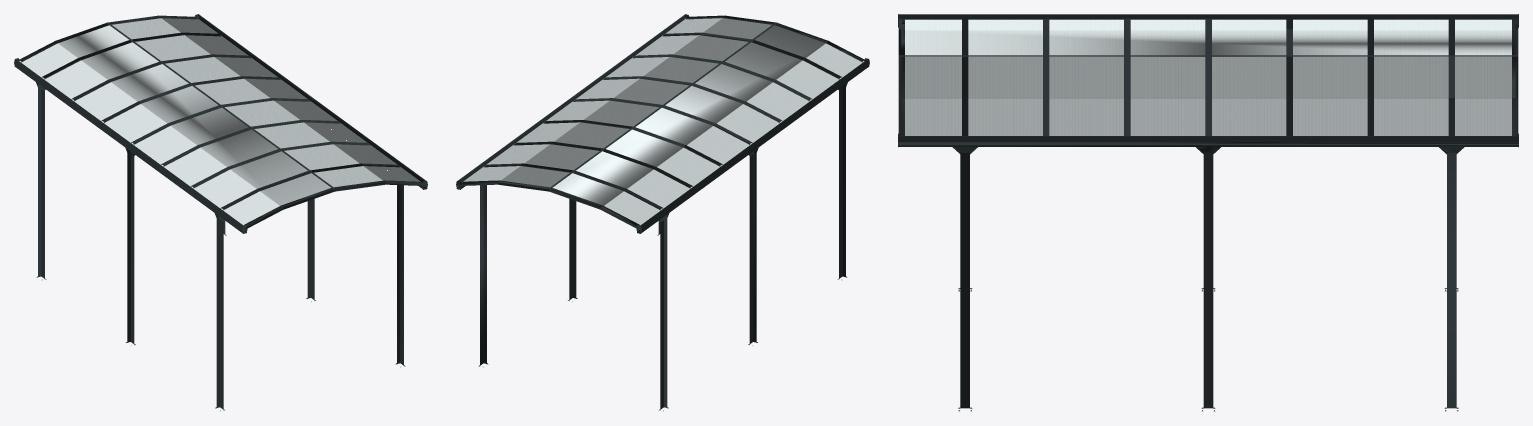
3 views of the same model, side by side, from view 1: azimuth 30°, elevation 25°; view 2: azimuth 150°, elevation 25°; view 3: azimuth 270°, elevation 25° (orthographic). The views are drawn at different scales.
Parts seen in each view (by area): view 1: priximbattable_net_abris_de_voiture_367_carport_aluminium_ci; view 2: priximbattable_net_abris_de_voiture_367_carport_aluminium_ci; view 3: priximbattable_net_abris_de_voiture_367_carport_aluminium_ci.
Part boxes in pixels (bbox=[...]): priximbattable_net_abris_de_voiture_367_carport_aluminium_ci: bbox=[14, 14, 427, 411]; priximbattable_net_abris_de_voiture_367_carport_aluminium_ci: bbox=[456, 14, 869, 411]; priximbattable_net_abris_de_voiture_367_carport_aluminium_ci: bbox=[898, 14, 1518, 411].
Size of the model in its own units: 360 by 401 by 766.
1 material, 1 textured.
